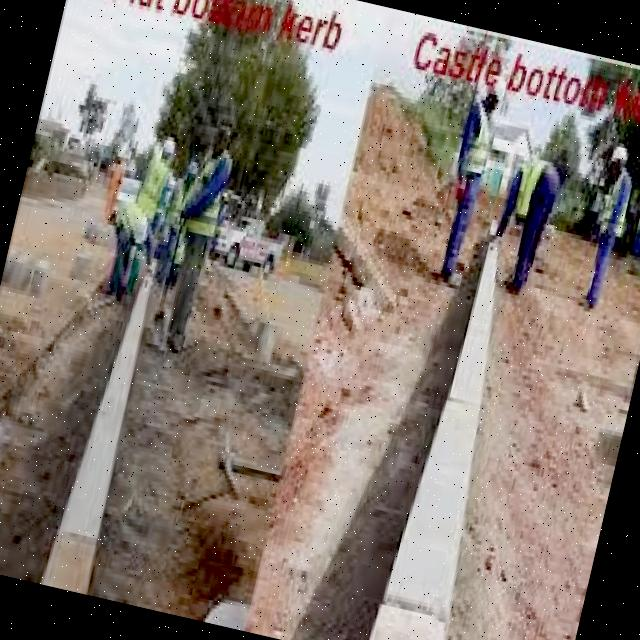curb: (388, 395, 484, 620), (449, 264, 495, 412)
